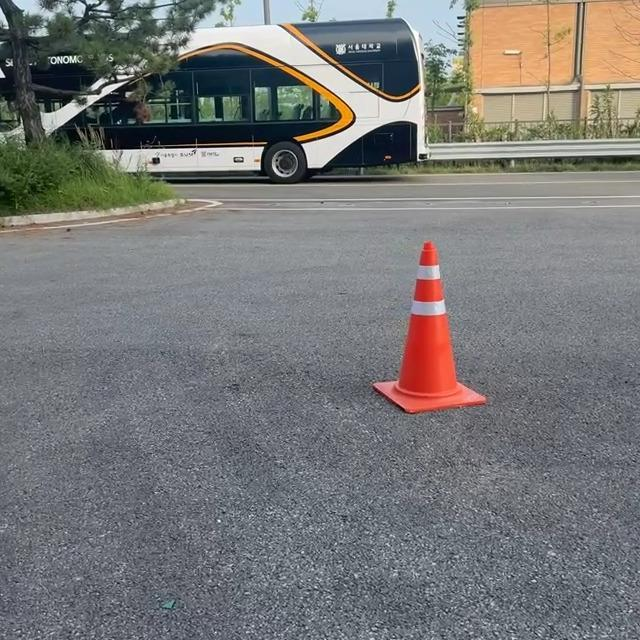fallen_object: (340, 239, 517, 415)
